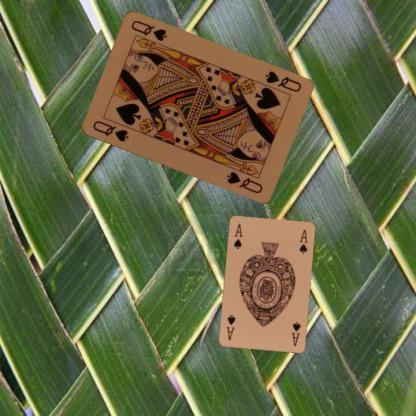As: (231, 221, 243, 250), (289, 319, 301, 347)
Qs: (90, 118, 130, 144), (262, 68, 302, 94)
